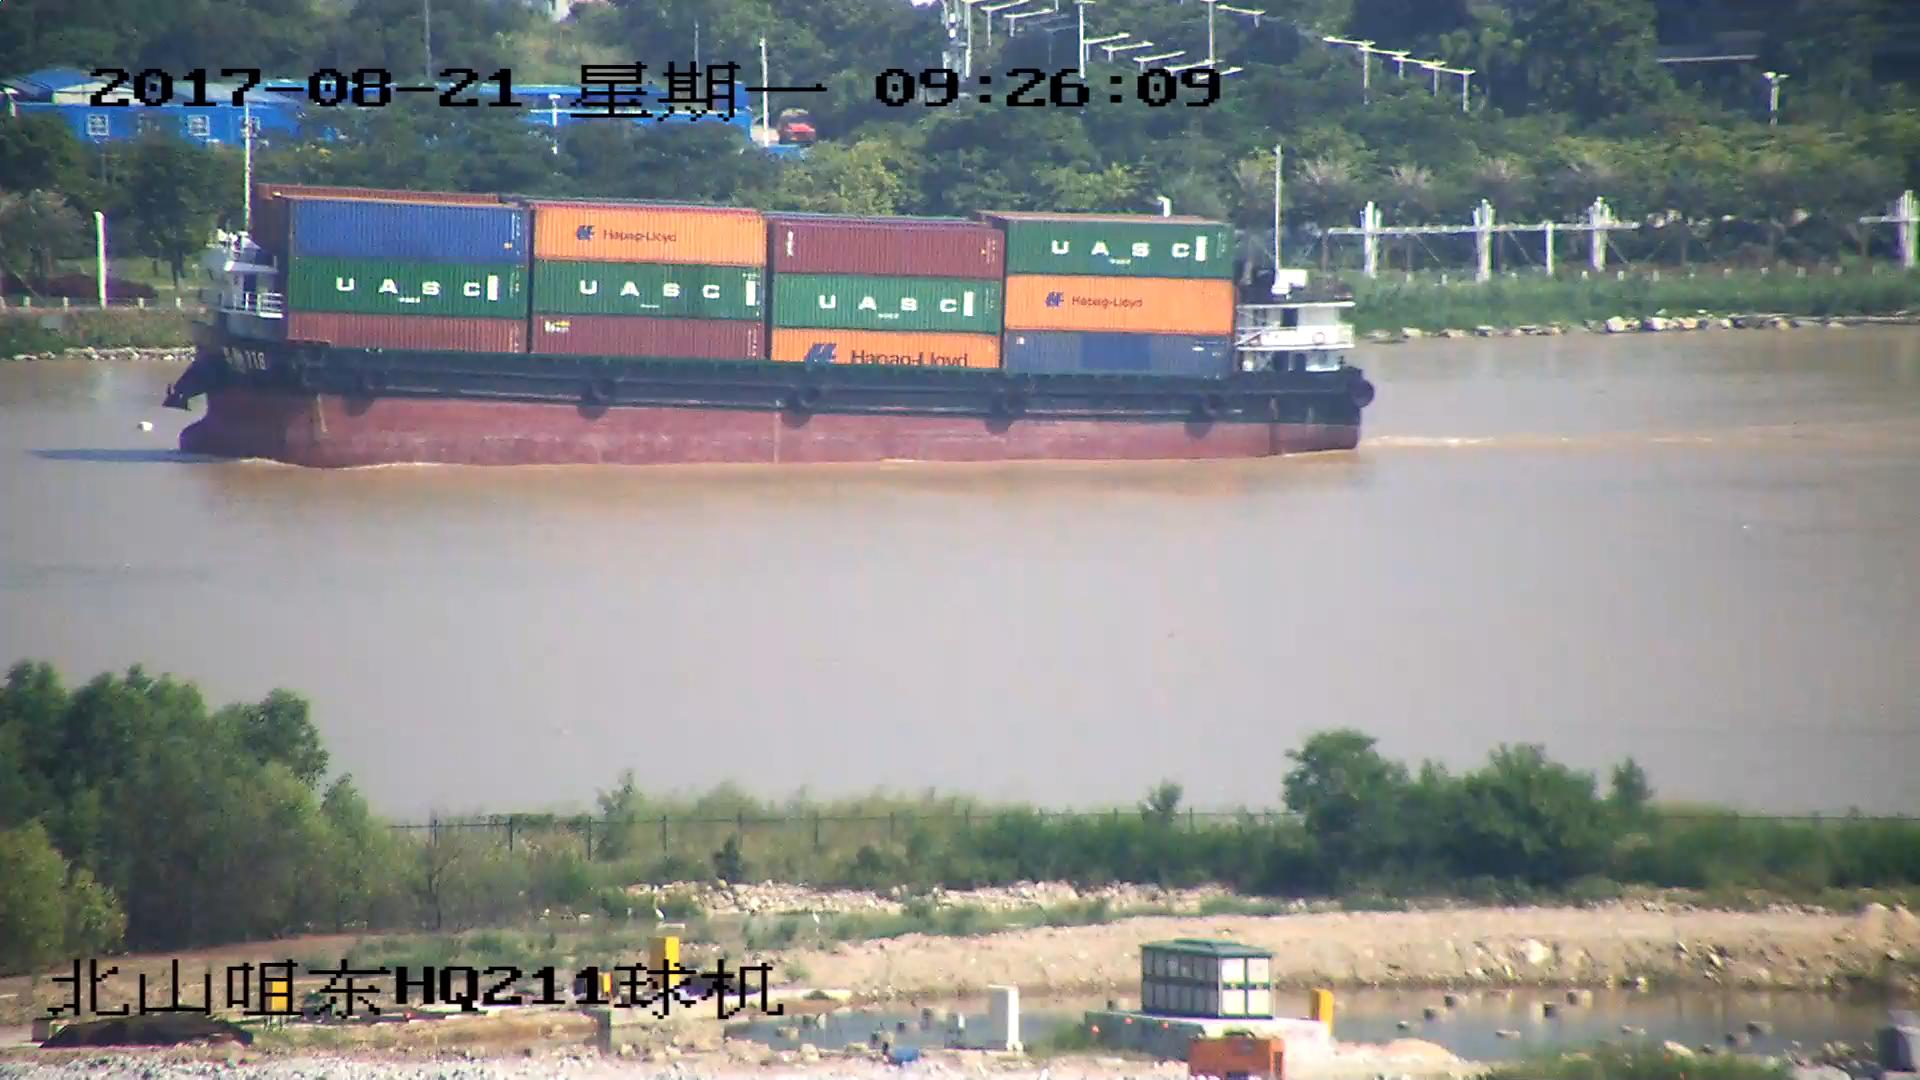container ship: (164, 112, 1373, 469)
